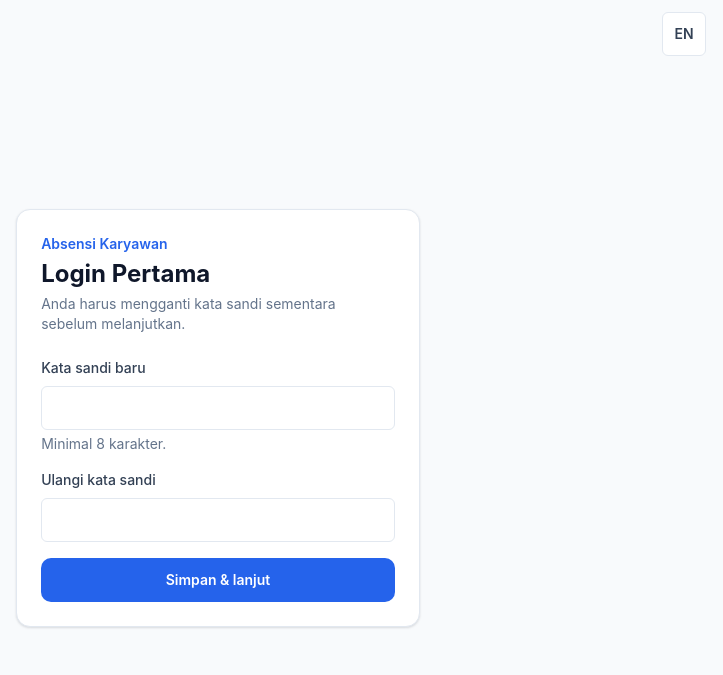
Scenario: FirstLoginPage › shows the server weak-password message verbatim
This screenshot has width=723, height=675.
Type "short" into the password field labelled "Kata sandi baru".
click(218, 408); type("short")  # box [41,386,395,430]
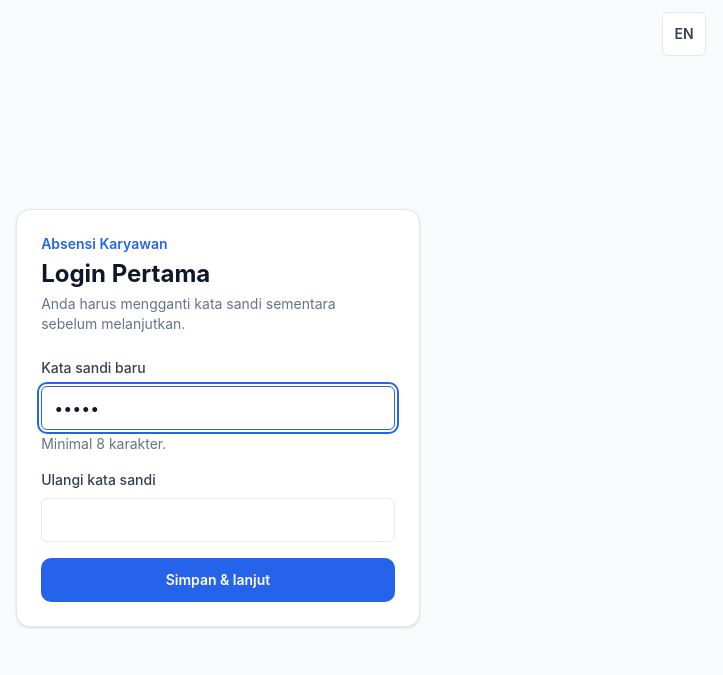
Type "short" into the password field labelled "Ulangi kata sandi".
click(218, 520); type("short")  # box [41,498,395,542]
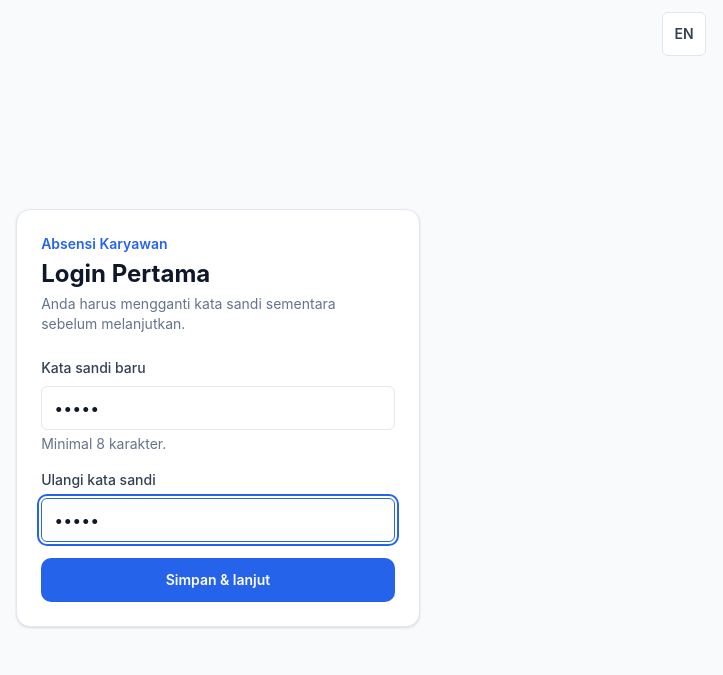
Click the button "Simpan & lanjut".
click(218, 580)  # box [41,558,395,602]
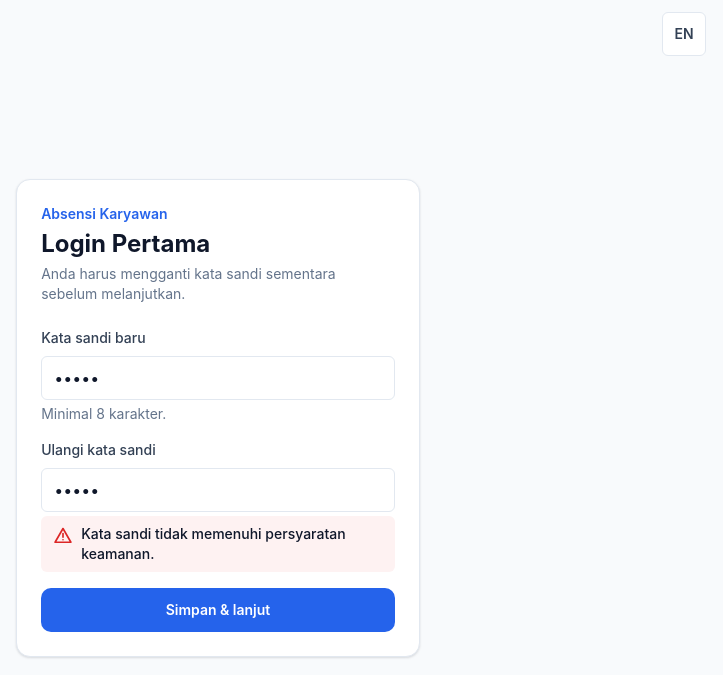
expect the message with test id "first-login-error" reads "Kata sandi tidak memenuhi persyaratan keamanan.": met, box [81,525,346,562]
